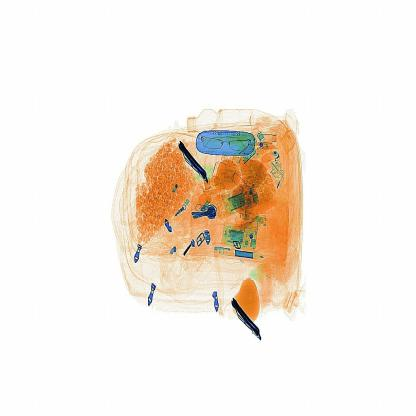knife: (178, 136, 212, 188)
